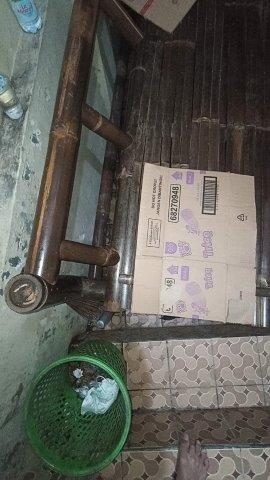kardus: (132, 164, 254, 323)
